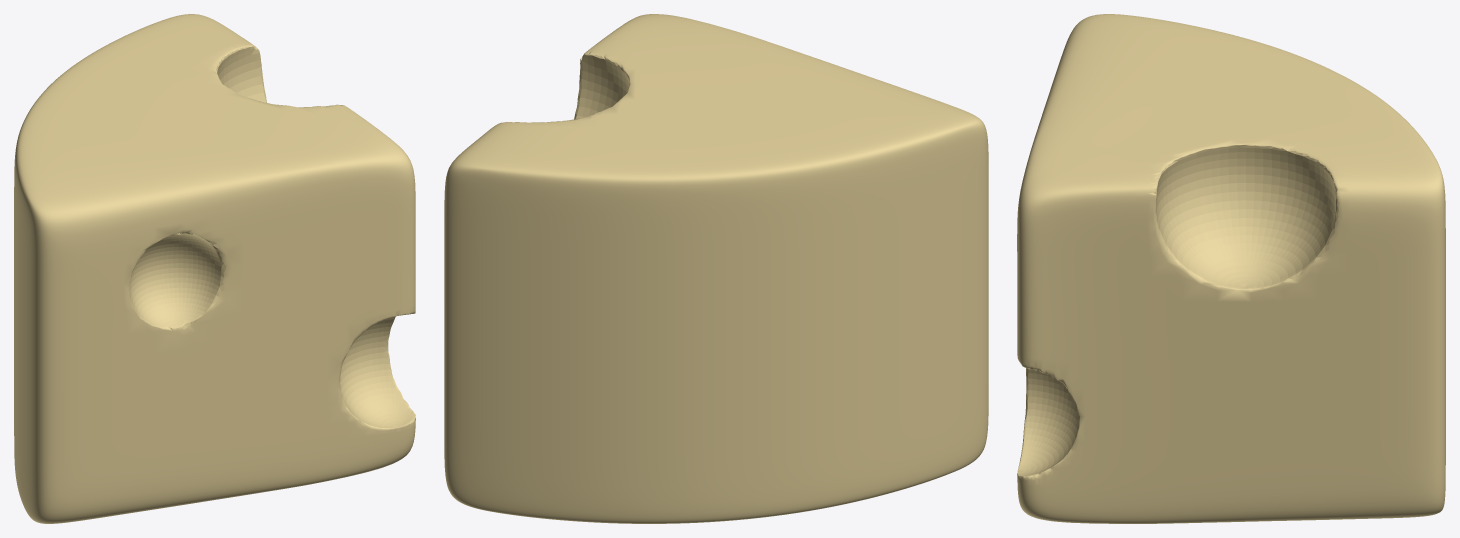
Rendered from Cheese.glb.
The picture shows the model from 3 angles, left to right: view 1: azimuth 30°, elevation 25°; view 2: azimuth 150°, elevation 25°; view 3: azimuth 270°, elevation 25°; orthographic projection. The views are drawn at different scales.
Visible parts, largest first — view 1: Cheese; view 2: Cheese; view 3: Cheese.
Boxes of the visible parts, x1,y1,x2,y2 form: Cheese: (14,14,415,523); Cheese: (444,14,988,523); Cheese: (1017,14,1445,523).
Bounding box in the file's own units: 0.9934 × 0.8764 × 0.9833.
